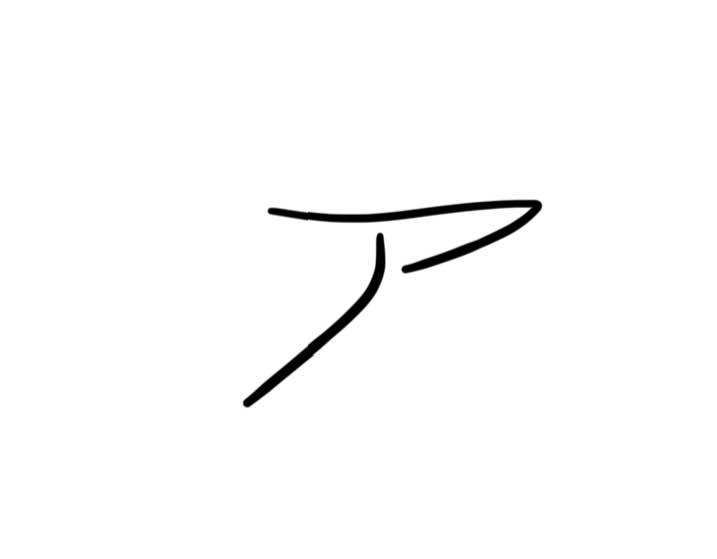a: (211, 183, 559, 421)
